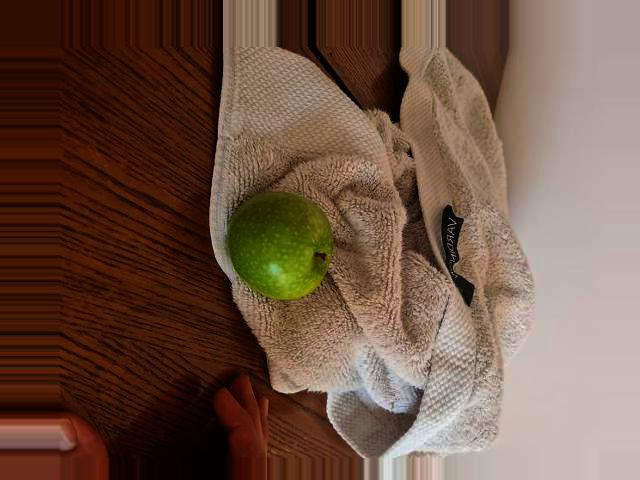apple: (221, 195, 339, 299)
